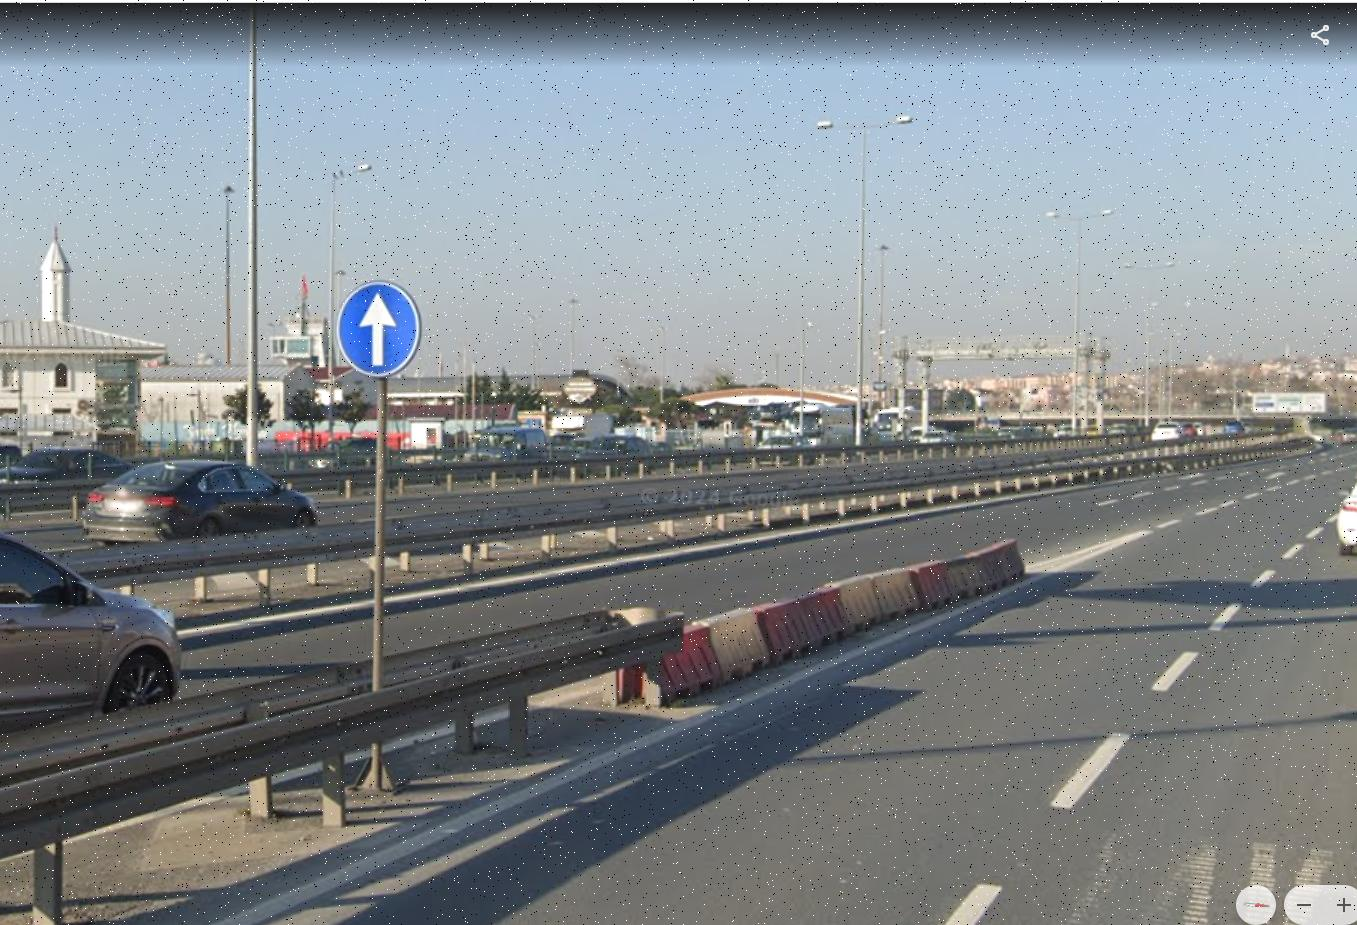forward: (332, 278, 426, 378)
